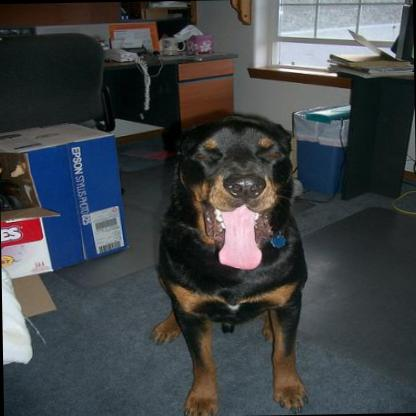Rottweiler: (141, 115, 304, 414)
